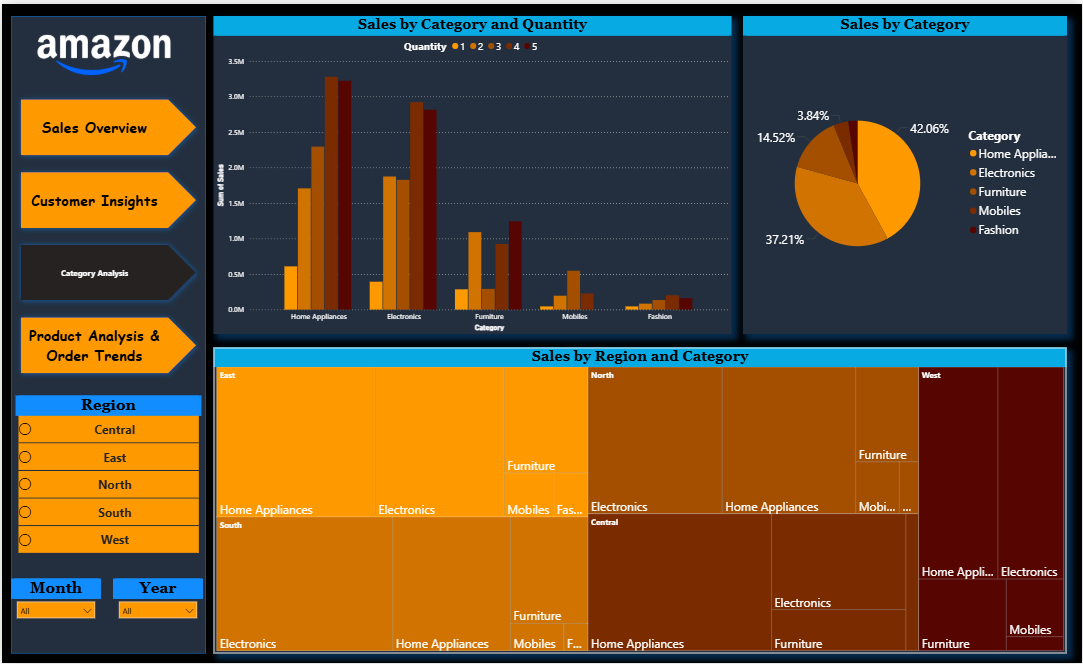

Layout of this report page (visuals, bound fields, positions):
{"tool":"powerbi","page":{"name":"Category Analysis","canvas":[1800,1100],"ordinal":2},"visuals":[{"type":"shape","box":[15,20,325,1062.5],"z":0},{"type":"slicer","title":"Year","fields":{"Values":["Amazon_Sales.Date.Variation.Date Hierarchy.Year"]},"box":[183.8,957.5,150,70],"z":1000},{"type":"image","box":[0,20,340,130],"z":2000},{"type":"clusteredColumnChart","title":"Sales by Category and Quantity","fields":{"Category":["Amazon_Sales.Category"],"Y":["Sum(Amazon_Sales.Sales)"],"Series":["Amazon_Sales.Quantity"]},"box":[353.3,20,863.3,530],"z":3000},{"type":"pieChart","title":"Sales by Category","fields":{"Category":["Amazon_Sales.Category"],"Y":["Sum(Amazon_Sales.Sales)"]},"box":[1235,20,540,427.5],"z":4000},{"type":"treemap","title":"Sales by Region and Category","fields":{"Values":["Sum(Amazon_Sales.Sales)"],"Group":["Amazon_Sales.Region"],"Details":["Amazon_Sales.Category"]},"box":[352.5,572.5,862.5,510],"z":5000},{"type":"pageNavigator","box":[22.5,150,310,475],"z":6000},{"type":"listSlicer","fields":{"Values":["Amazon_Sales.Region"]},"box":[22.5,715,310,225],"z":7000},{"type":"slicer","title":"Month","fields":{"Values":["Amazon_Sales.Date.Variation.Date Hierarchy.Month"]},"box":[15,957.5,150,70],"z":9000}]}

Visuals, with their boxes in screenshot pixels (x1, y1, x2, y2), scaled from the page's 1800x1100 canvas onto the 1083x664 screenshot:
shape: <bbox>9, 12, 205, 653</bbox>
"Year" slicer: <bbox>111, 578, 201, 620</bbox>
image: <bbox>0, 12, 205, 91</bbox>
"Sales by Category and Quantity" clusteredColumnChart: <bbox>213, 12, 732, 332</bbox>
"Sales by Category" pieChart: <bbox>743, 12, 1068, 270</bbox>
"Sales by Region and Category" treemap: <bbox>212, 346, 731, 653</bbox>
pageNavigator: <bbox>14, 91, 200, 377</bbox>
listSlicer - Amazon_Sales.Region: <bbox>14, 432, 200, 567</bbox>
"Month" slicer: <bbox>9, 578, 99, 620</bbox>
